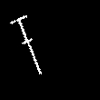double_crochet: (11, 16, 41, 73)
